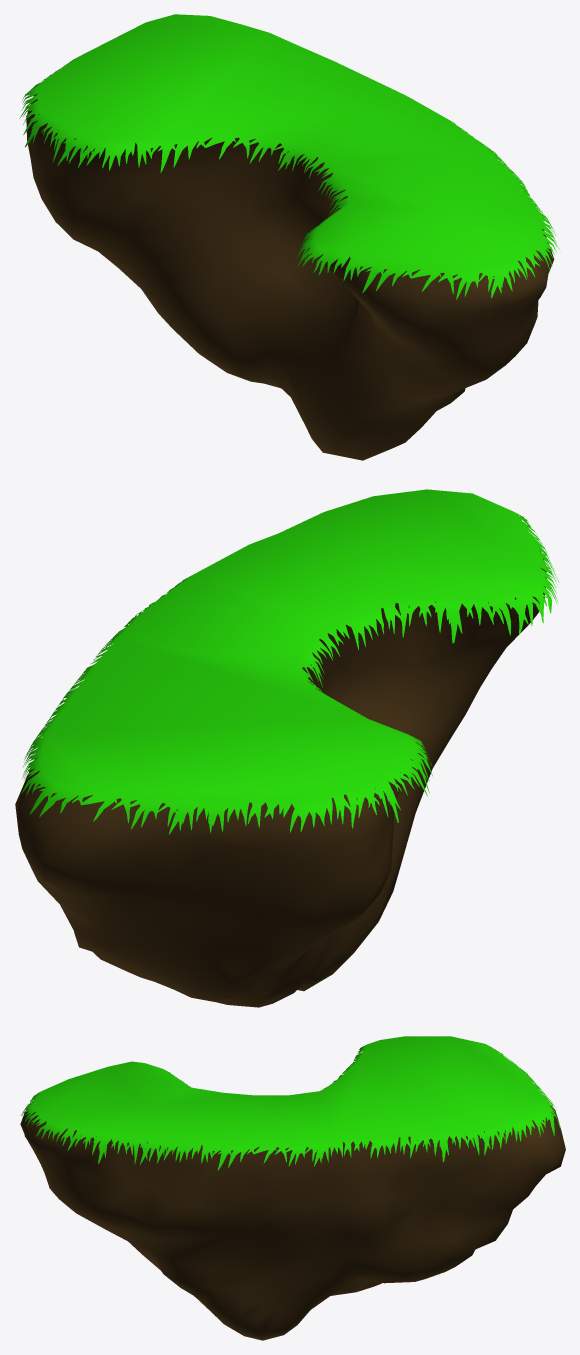
File: IslandGrassSmall2.FBX
3 views of the same model, one above another, from view 1: azimuth 30°, elevation 25°; view 2: azimuth 150°, elevation 25°; view 3: azimuth 270°, elevation 25° (orthographic). The views are drawn at different scales.
Visible parts, largest first — view 1: Plane029; view 2: Plane029; view 3: Plane029.
Part boxes in pixels (bbox=[...]): Plane029: bbox=[19, 14, 559, 460]; Plane029: bbox=[15, 489, 559, 1007]; Plane029: bbox=[20, 1036, 565, 1340].
Size of the model in its own units: 482 by 416 by 910.
